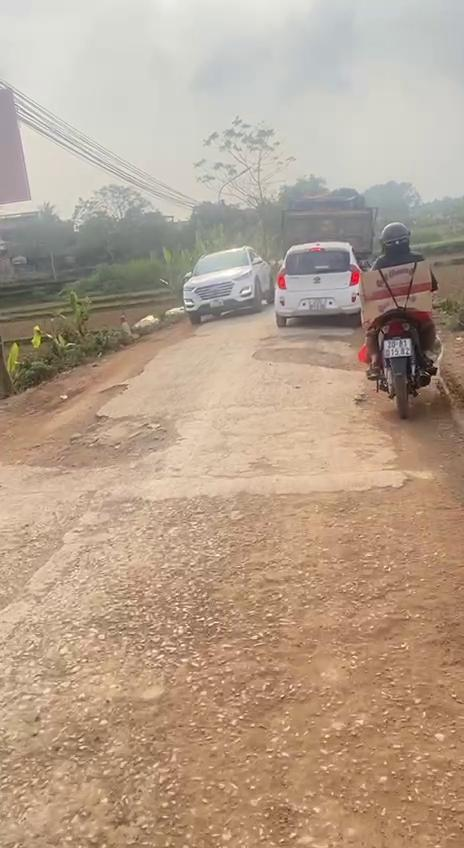pothole: (0, 376, 186, 477), (250, 344, 367, 374)
